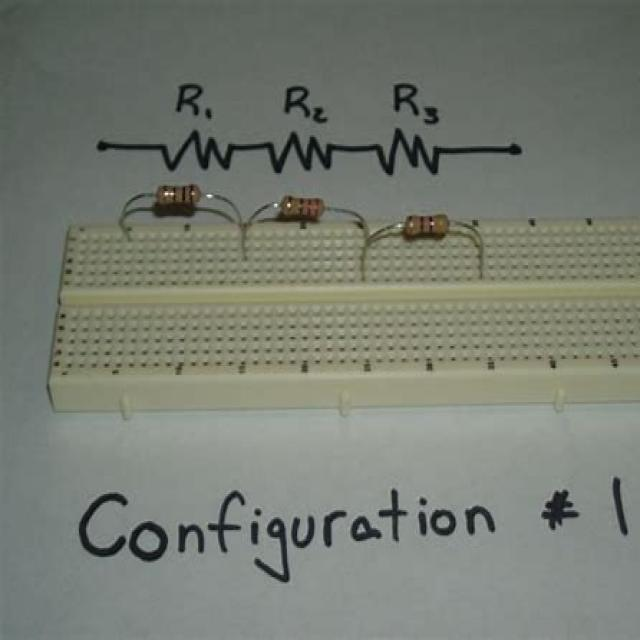capacitor: (155, 184, 202, 209), (405, 214, 449, 239), (281, 194, 325, 218)
